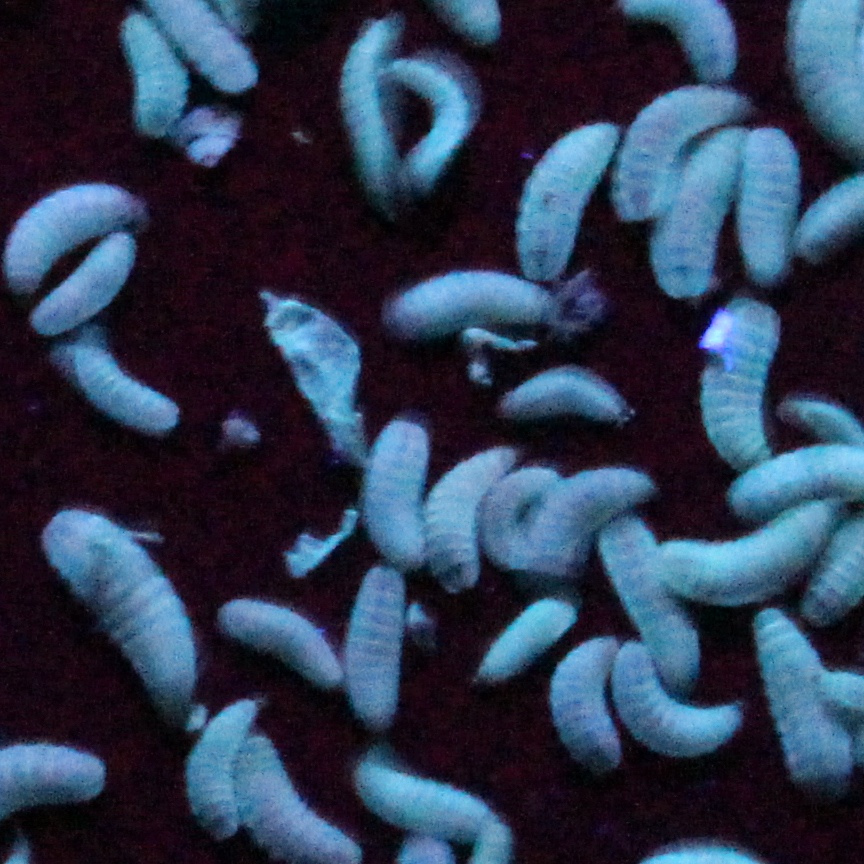larve: (35, 503, 214, 696), (753, 605, 862, 801), (594, 512, 707, 694), (607, 639, 744, 764), (619, 83, 746, 214), (651, 121, 746, 292), (519, 121, 619, 280), (657, 508, 823, 601), (414, 453, 521, 592), (528, 471, 671, 574), (1, 187, 139, 287), (698, 287, 771, 467), (553, 624, 637, 769), (187, 687, 262, 846), (385, 262, 562, 328), (357, 758, 501, 837), (385, 55, 469, 189), (64, 335, 185, 428), (223, 594, 346, 685), (732, 114, 796, 285), (344, 558, 405, 728), (476, 464, 562, 583), (37, 233, 132, 339), (364, 417, 426, 576), (473, 599, 578, 685), (507, 360, 632, 428), (348, 14, 396, 185), (117, 14, 180, 126)
